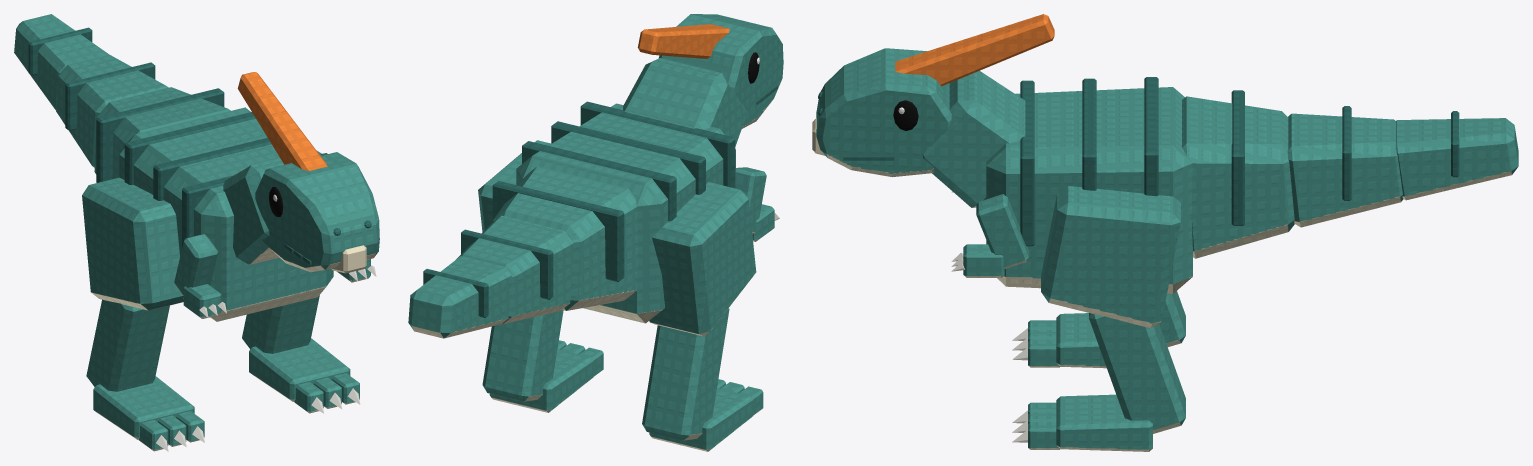
The model's file is 06_Parasaurolophus.glb.
3 views of the same model, side by side, from view 1: azimuth 30°, elevation 25°; view 2: azimuth 150°, elevation 25°; view 3: azimuth 270°, elevation 25° (orthographic). The views are drawn at different scales.
Visible parts, largest first — view 1: 06_Parasaurolophus; view 2: 06_Parasaurolophus; view 3: 06_Parasaurolophus.
Part boxes in pixels (bbox=[...]): 06_Parasaurolophus: bbox=[14, 14, 379, 451]; 06_Parasaurolophus: bbox=[408, 14, 783, 451]; 06_Parasaurolophus: bbox=[812, 14, 1518, 451].
Size of the model in its own units: 3.97 by 6.08 by 10.25.
Materials: 1 (1 with a texture image).
